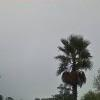Tree: (37, 27, 100, 96)
